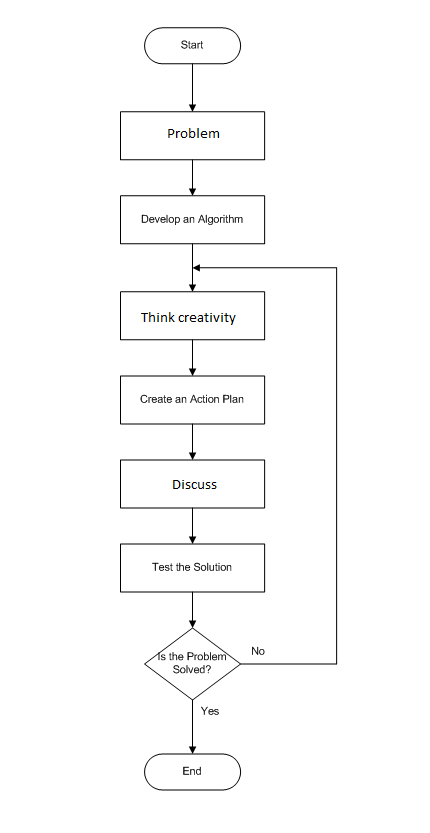arrow: (191, 261, 340, 671), (185, 240, 200, 291), (186, 700, 200, 754), (185, 505, 200, 544), (187, 63, 199, 111), (183, 163, 200, 196), (185, 591, 200, 628), (185, 340, 199, 376), (186, 424, 199, 458)
decision: (143, 626, 238, 701)
process: (115, 537, 269, 599), (114, 455, 269, 515), (116, 107, 268, 167), (115, 372, 272, 430), (115, 286, 269, 344), (115, 192, 269, 247)
terminator: (140, 23, 245, 69), (140, 750, 244, 796)
text: (131, 387, 245, 411), (136, 306, 243, 329), (149, 647, 226, 677), (138, 209, 245, 230), (147, 558, 235, 577), (163, 124, 224, 145), (168, 473, 223, 493), (174, 34, 209, 55), (174, 761, 206, 780), (195, 700, 223, 719), (245, 642, 272, 658)
